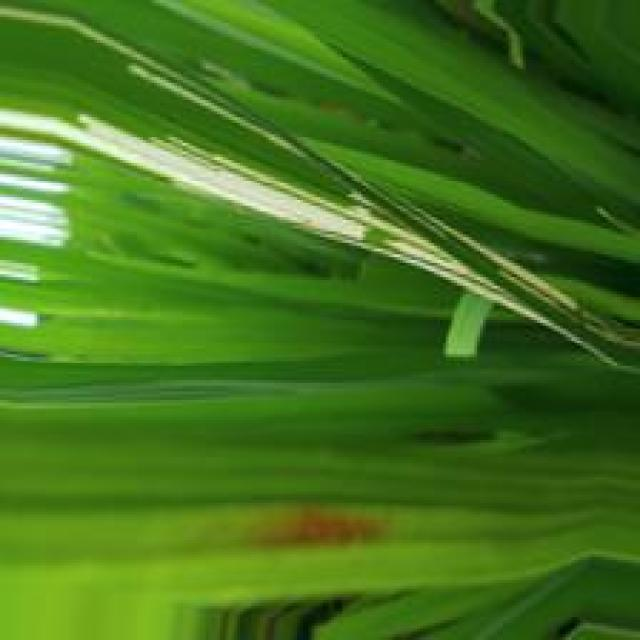Rice_Hispa: (0, 110, 540, 325), (409, 213, 583, 316)
